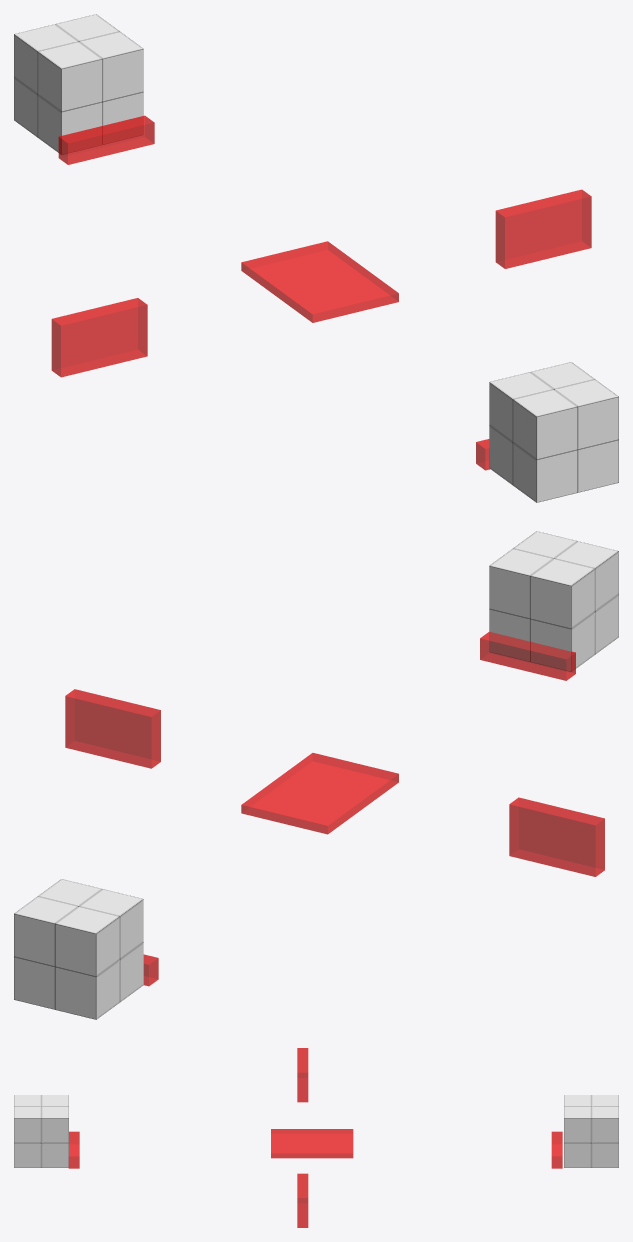
The picture shows the model from 3 angles, top to bottom: view 1: azimuth 30°, elevation 25°; view 2: azimuth 150°, elevation 25°; view 3: azimuth 270°, elevation 25°; orthographic projection. The views are drawn at different scales.
Visible parts, largest first — view 1: Plane/BasicEnvironment/StartCube-1, Plane/BasicEnvironment/StartCube-2, Plane/Setting3/BlockingCube, Plane/Setting3/BlockingCube (3), Plane/Setting3/BlockingCube (2), Plane/Setting3/StartBlocker-1; view 2: Plane/BasicEnvironment/StartCube-2, Plane/BasicEnvironment/StartCube-1, Plane/Setting3/BlockingCube, Plane/Setting3/BlockingCube (3), Plane/Setting3/BlockingCube (2), Plane/Setting3/StartBlocker-2; view 3: Plane/BasicEnvironment/StartCube-1, Plane/BasicEnvironment/StartCube-2, Plane/Setting3/BlockingCube, Plane/Setting3/BlockingCube (3), Plane/Setting3/BlockingCube (2), Plane/Setting3/StartBlocker-1, Plane/Setting3/StartBlocker-2.
Part boxes in pixels (x1,y1,x2,y2): Plane/BasicEnvironment/StartCube-1: [489, 362, 618, 502]; Plane/BasicEnvironment/StartCube-2: [14, 14, 143, 154]; Plane/Setting3/BlockingCube: [241, 241, 398, 322]; Plane/Setting3/BlockingCube (3): [51, 298, 147, 377]; Plane/Setting3/BlockingCube (2): [495, 189, 591, 268]; Plane/Setting3/StartBlocker-1: [58, 115, 154, 164]; Plane/BasicEnvironment/StartCube-2: [14, 879, 143, 1019]; Plane/BasicEnvironment/StartCube-1: [489, 531, 618, 671]; Plane/Setting3/BlockingCube: [241, 753, 398, 834]; Plane/Setting3/BlockingCube (3): [509, 797, 604, 876]; Plane/Setting3/BlockingCube (2): [65, 689, 160, 768]; Plane/Setting3/StartBlocker-2: [480, 632, 575, 680]; Plane/BasicEnvironment/StartCube-1: [14, 1095, 68, 1167]; Plane/BasicEnvironment/StartCube-2: [564, 1095, 618, 1167]; Plane/Setting3/BlockingCube: [271, 1129, 353, 1158]; Plane/Setting3/BlockingCube (3): [297, 1048, 308, 1102]; Plane/Setting3/BlockingCube (2): [297, 1173, 308, 1227]; Plane/Setting3/StartBlocker-1: [551, 1131, 562, 1168]; Plane/Setting3/StartBlocker-2: [68, 1131, 79, 1168].
Bounding box in the file's own units: 1.29 × 0.2028 × 2.2.
